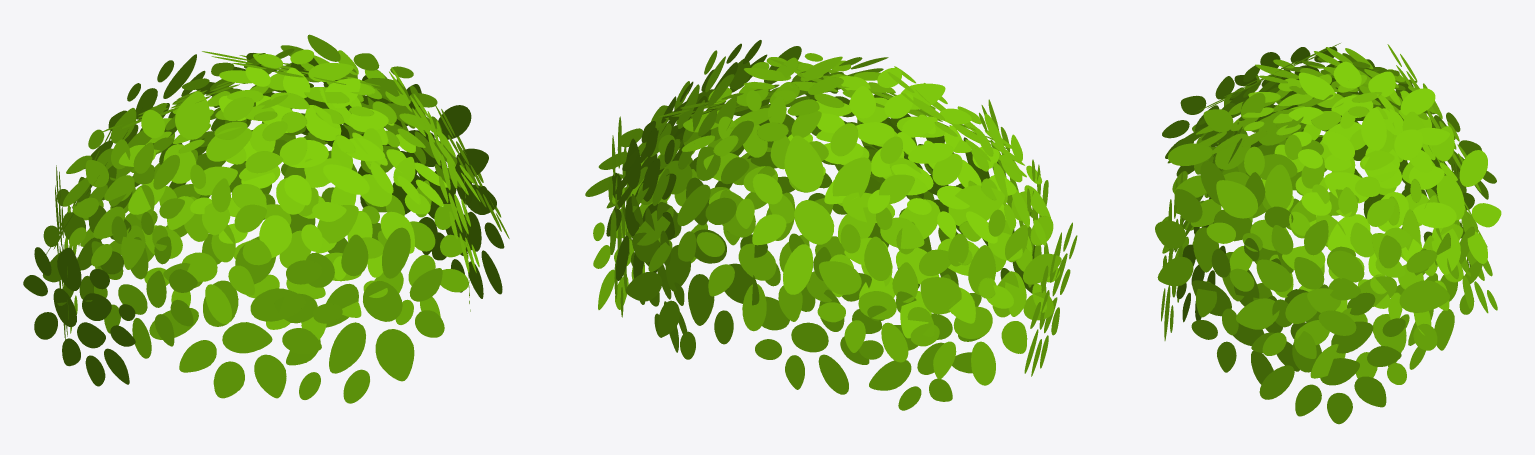
File: bush_small.glb
3 views of the same model, side by side, from view 1: azimuth 30°, elevation 25°; view 2: azimuth 150°, elevation 25°; view 3: azimuth 270°, elevation 25° (orthographic). The views are drawn at different scales.
Parts seen in each view (by area): view 1: Bush_Small_80; view 2: Bush_Small_80; view 3: Bush_Small_80.
Part boxes in pixels (x1=…): Bush_Small_80: x1=23, y1=34, x2=509, y2=403; Bush_Small_80: x1=585, y1=40, x2=1077, y2=410; Bush_Small_80: x1=1155, y1=43, x2=1501, y2=424.
Bounding box in the file's own units: 1.93 × 1.25 × 1.5.
Materials: 1 (1 with a texture image).
